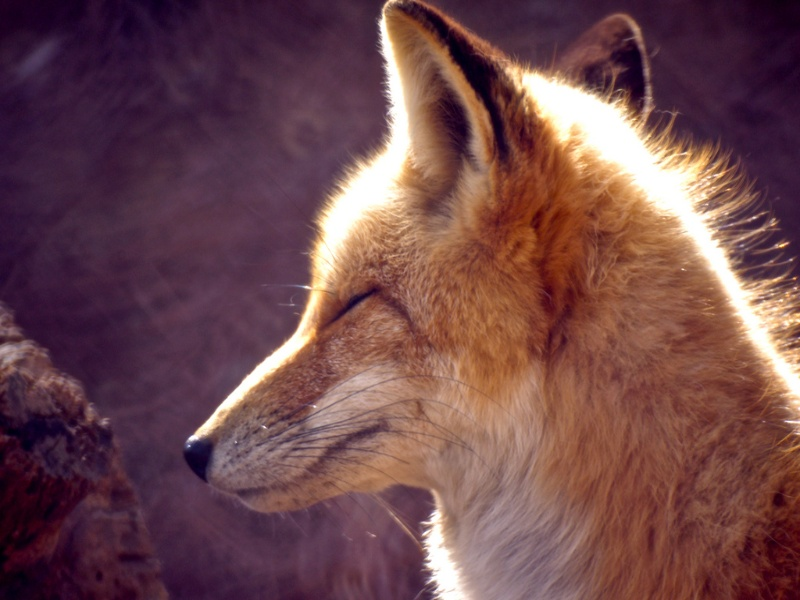fox: (181, 12, 800, 590)
